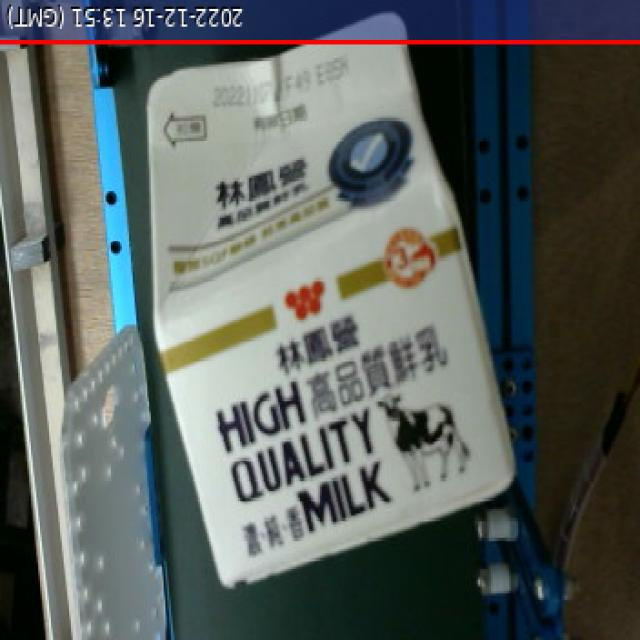non_white_jug: (129, 10, 531, 604)
